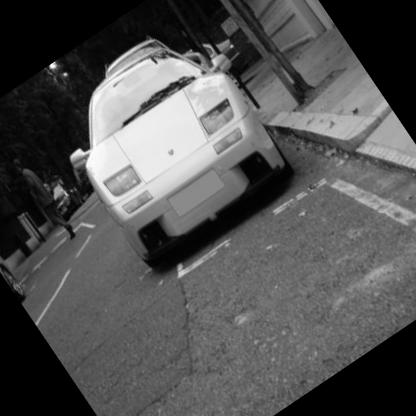car: (29, 1, 327, 289)
